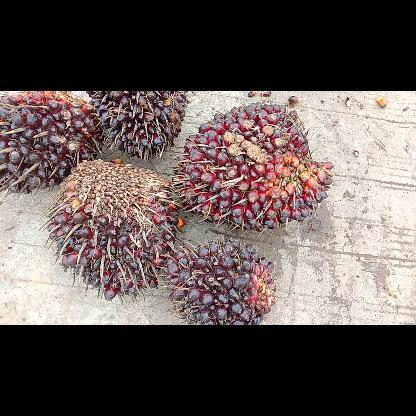TBS mentah: (169, 102, 332, 233), (41, 160, 179, 304), (0, 91, 103, 196), (157, 234, 276, 324), (86, 91, 186, 159)
